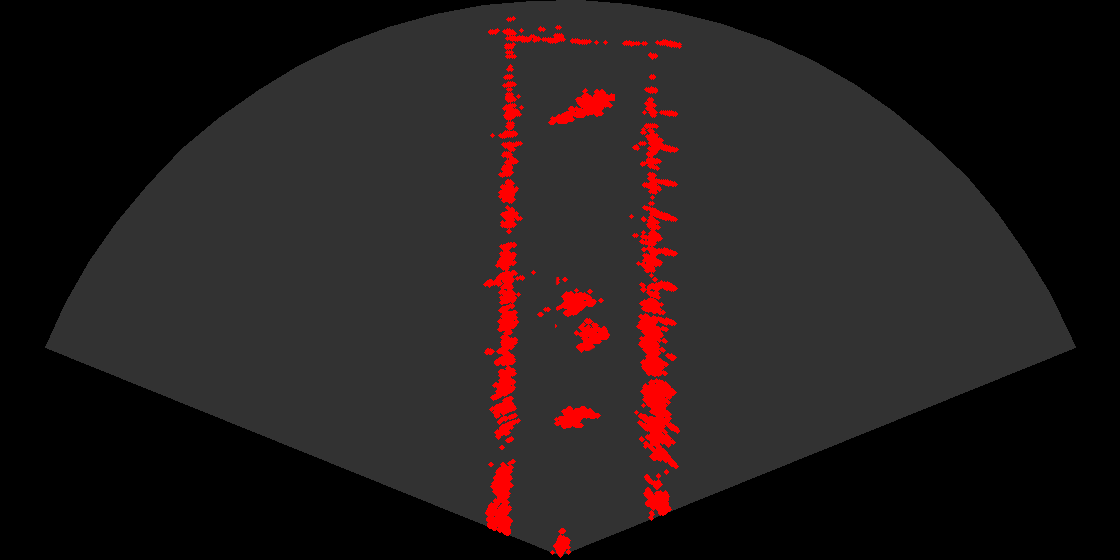AUV: (548, 404, 604, 436)
cage: (555, 277, 618, 361)
frogman: (547, 82, 615, 129)
